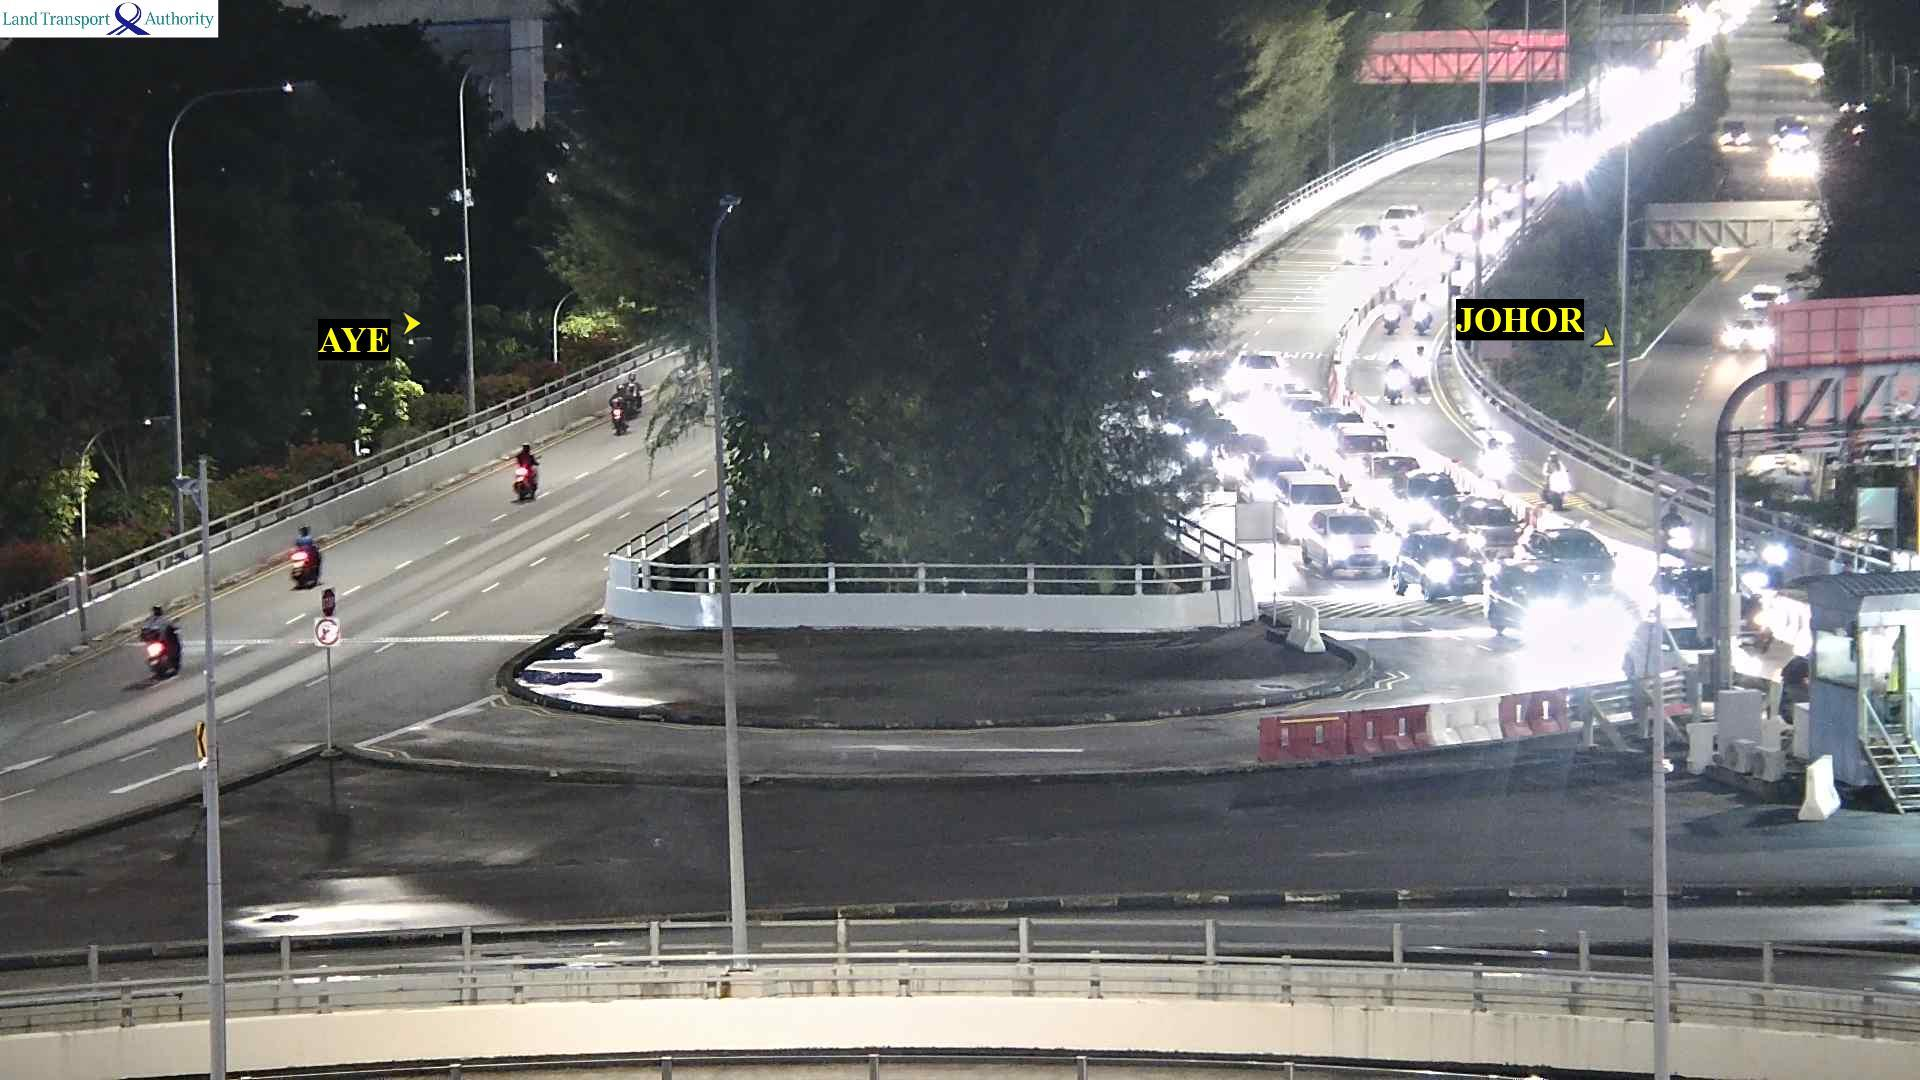vehicle-secondlink-johor: (1652, 563, 1775, 630), (1523, 531, 1627, 597), (1399, 533, 1482, 589), (1305, 512, 1395, 559), (1390, 472, 1460, 524), (1445, 498, 1523, 537), (1308, 407, 1377, 448), (1279, 475, 1354, 509), (1234, 351, 1287, 389), (1357, 455, 1427, 483), (1329, 425, 1394, 454), (1352, 224, 1391, 264), (1538, 452, 1567, 505), (1385, 206, 1423, 236), (1412, 289, 1433, 336), (1668, 508, 1689, 551), (1386, 356, 1403, 405), (1482, 435, 1501, 480), (1412, 347, 1429, 392), (1382, 290, 1399, 334)
vehicle-secondlink-singapore: (142, 616, 182, 675), (290, 531, 330, 591), (510, 446, 546, 500), (612, 386, 646, 427)
